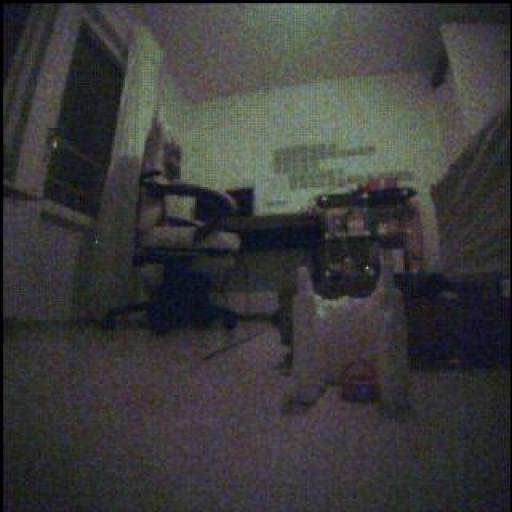basket: (342, 361, 380, 403)
